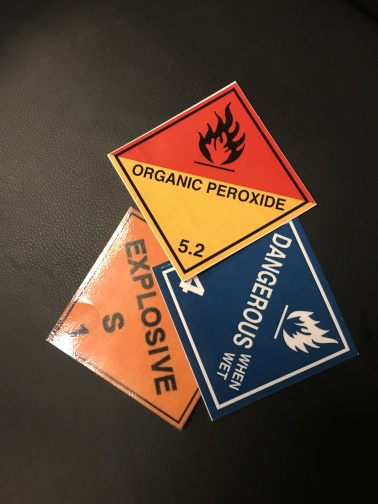DangerousWhenWet: (152, 216, 358, 422)
Explosive: (46, 207, 202, 433)
OrganicPeroxide: (105, 80, 316, 280)
